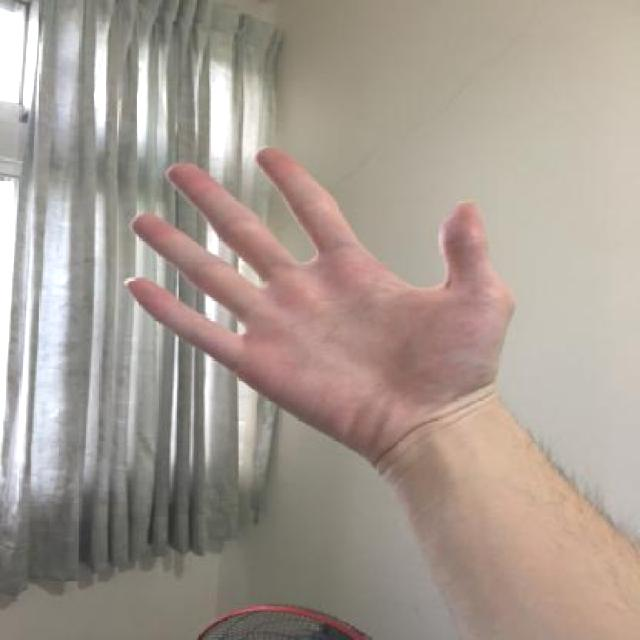no_glove: (109, 132, 523, 488)
